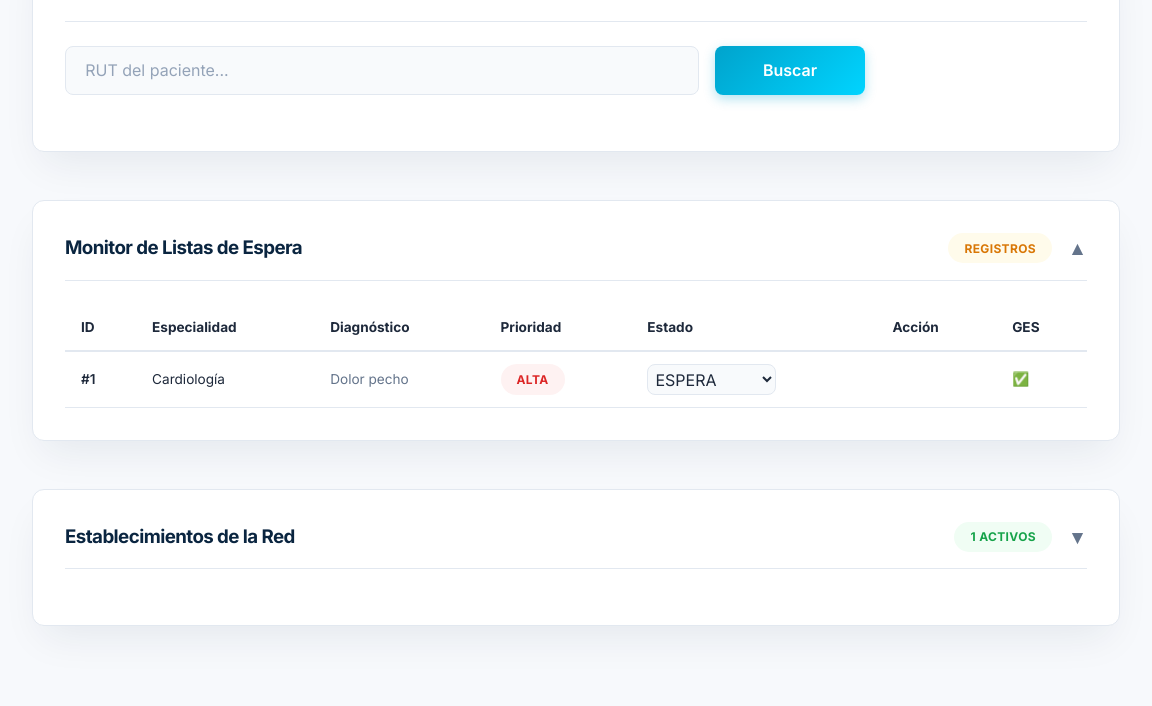
Test: DashboardView Component › muestra establecimientos cuando se expande la sección
(page scrolled)
Click the heading "Establecimientos de la Red" at (180, 537), box [65,522,295,552]
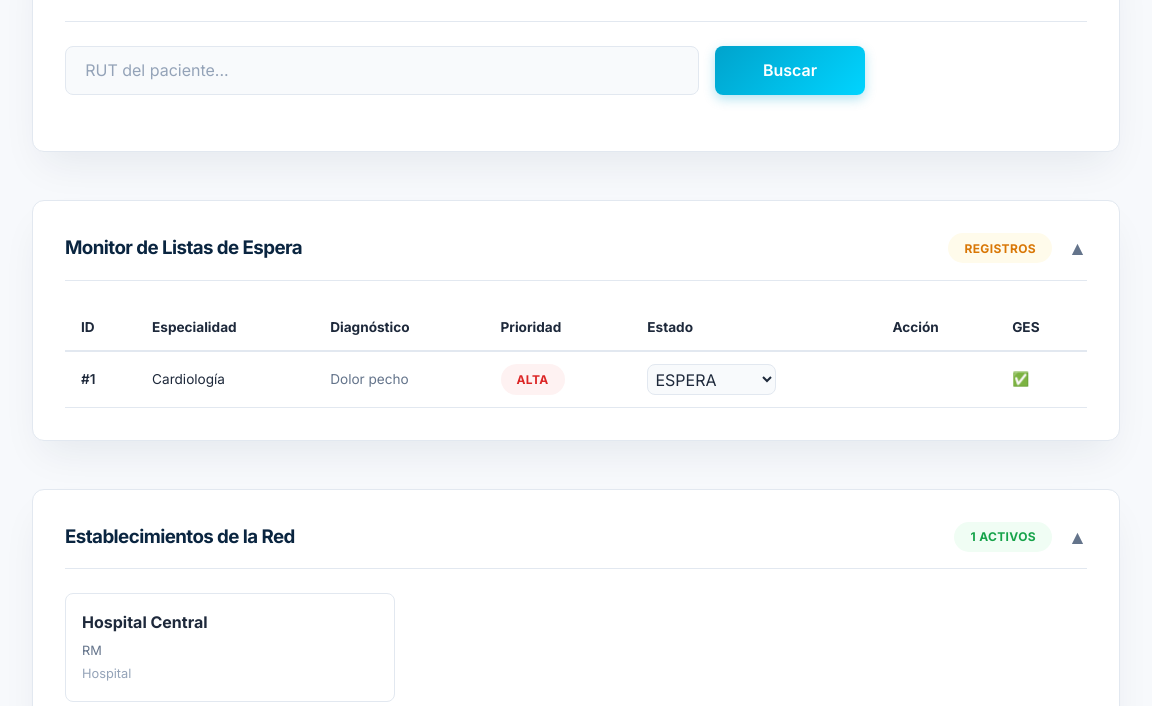
Check: the text "Hospital Central" is shown, box [82,612,208,632]
Check: the text "RM" is shown, box [82,643,102,658]
Check: the text "Hospital" is shown, box [82,666,131,682]
